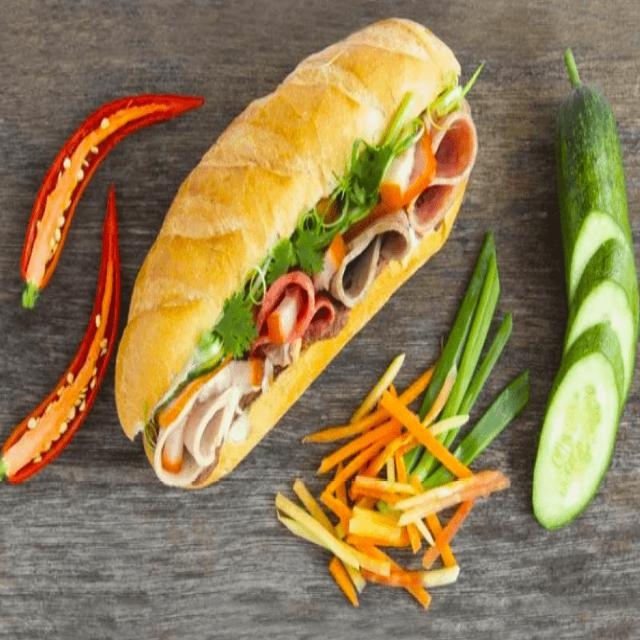banh mi: (115, 19, 460, 437), (150, 98, 477, 486)
ot: (21, 94, 203, 306), (0, 185, 120, 483)
rau ngo: (171, 109, 419, 391)
